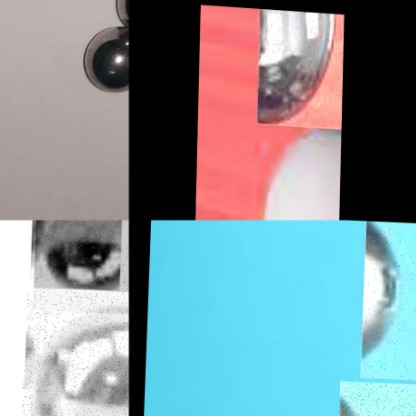ironball: (21, 285, 128, 415), (257, 6, 344, 125), (33, 220, 128, 311), (361, 220, 415, 376), (83, 23, 130, 92), (338, 378, 415, 415), (109, 0, 130, 23)
